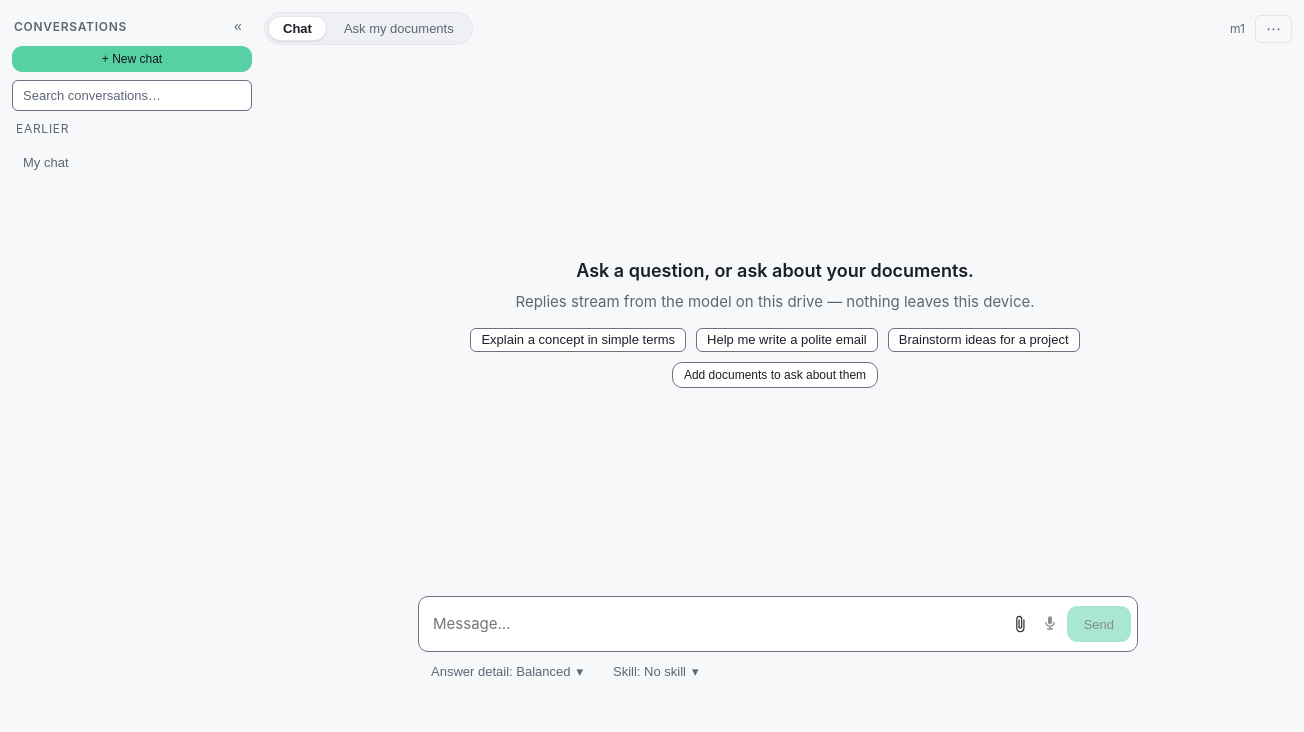
ChatScreen — per-turn skill apply + keep (U3, audit §4.3) › the composer chip × clears both the session pick and the saved default
Click the button "My chat".
click(116, 162)  # box x1=12 y1=142 x2=221 y2=182
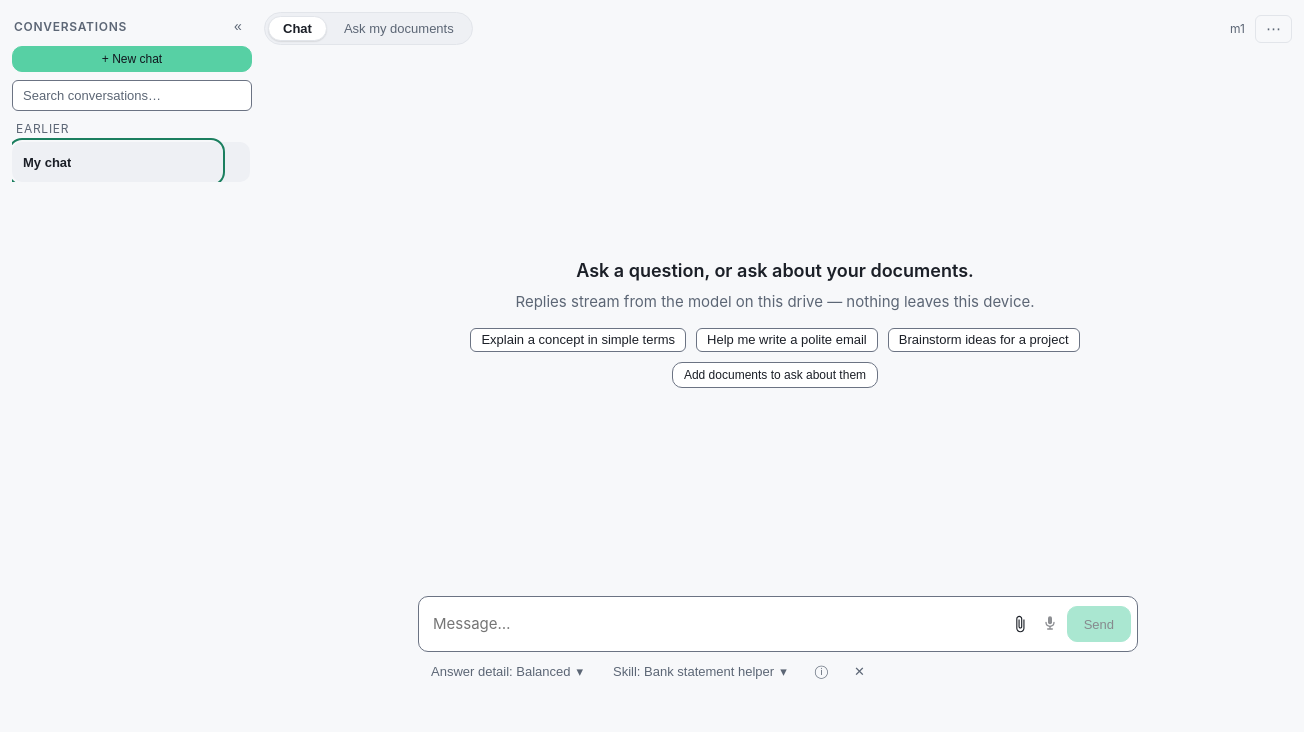
Check: the button "Skill: Bank statement helper ▾" is shown, box x1=604 y1=659 x2=796 y2=683
Click the button named "clear skill bank statement helper".
click(859, 671)  # box x1=847 y1=659 x2=872 y2=683
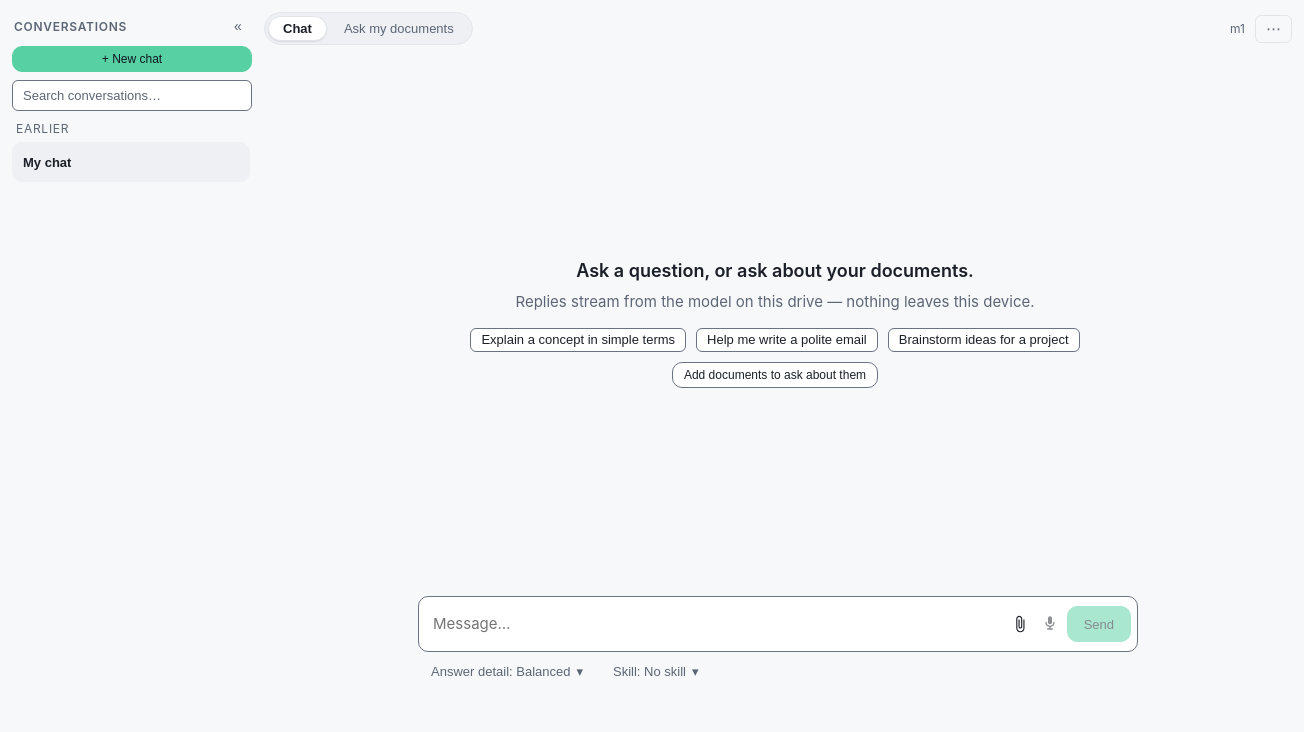
Check: the button "Skill: No skill ▾" is shown, box x1=604 y1=659 x2=708 y2=683
